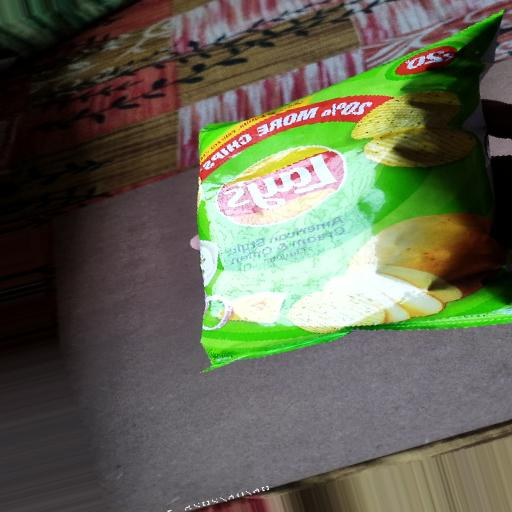Lays Green Small pack (American style cream and onion): (181, 4, 509, 394)
